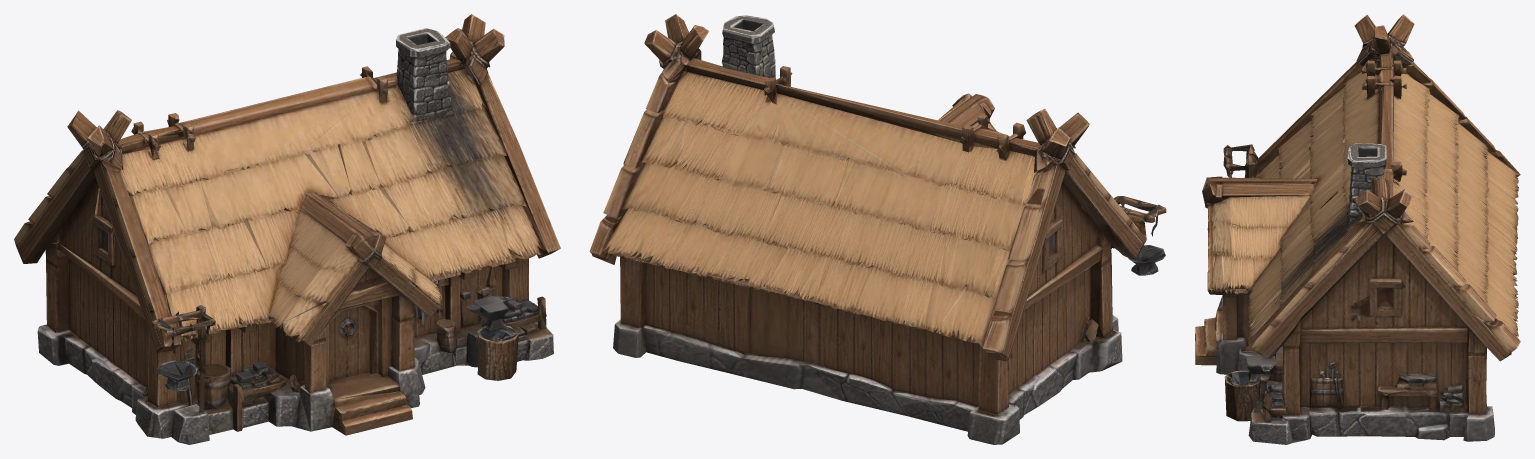
Rendered from smith-homestead.glb.
The picture shows the model from 3 angles, left to right: view 1: azimuth 30°, elevation 25°; view 2: azimuth 150°, elevation 25°; view 3: azimuth 270°, elevation 25°; orthographic projection. The views are drawn at different scales.
Visible parts, largest first — view 1: output_unwrapped; view 2: output_unwrapped; view 3: output_unwrapped.
Part boxes in pixels (left/top/right/bottom): output_unwrapped: left=14, top=14, right=560, bottom=444; output_unwrapped: left=589, top=14, right=1166, bottom=444; output_unwrapped: left=1195, top=14, right=1520, bottom=444.
Size of the model in its own units: 7.62 by 5 by 5.67.
Materials: 1 (1 with a texture image).
